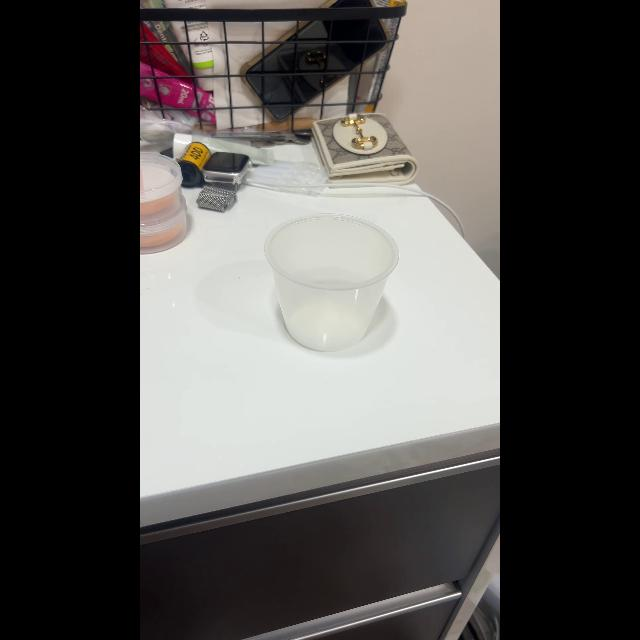clean: (272, 211, 394, 367)
